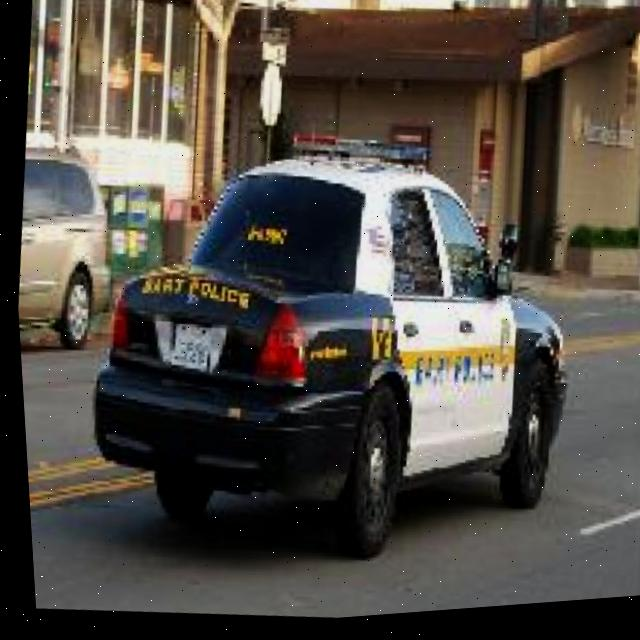emergency: (57, 105, 597, 599)
